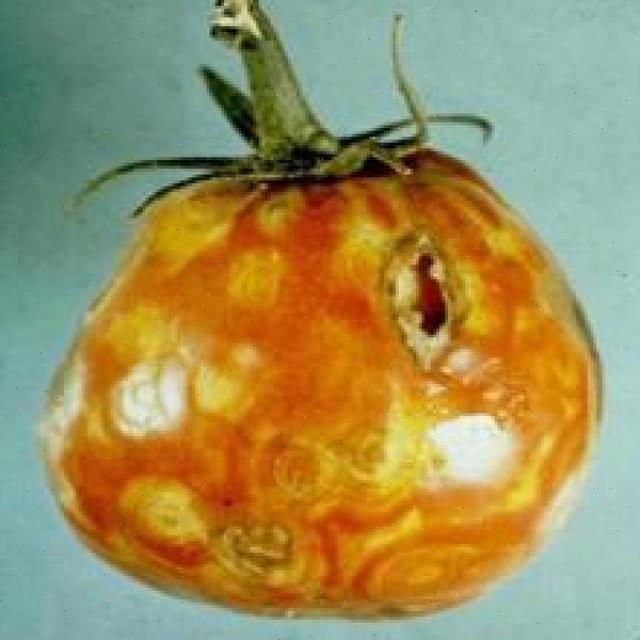Spotted wilt Virus Fruit: (27, 95, 400, 415)
